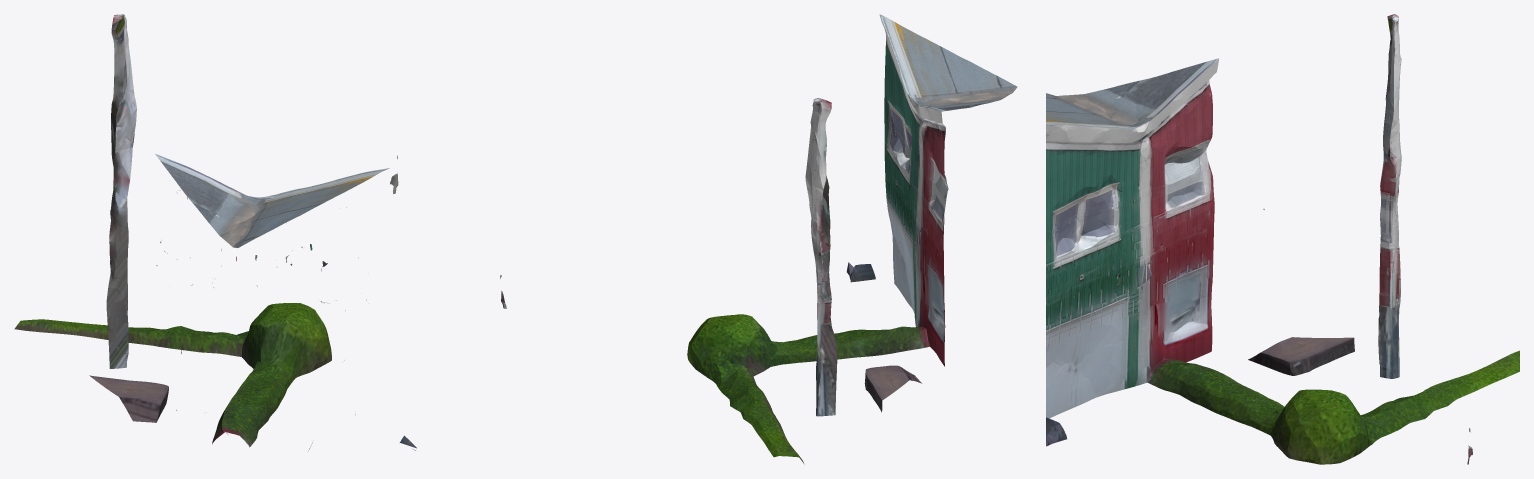
3 renders of one model, left to right at view 1: azimuth 30°, elevation 25°; view 2: azimuth 150°, elevation 25°; view 3: azimuth 270°, elevation 25°, orthographic. The views are drawn at different scales.
Bounding box in the file's own units: 7.68 × 7.01 × 8.36.
Materials: 2 (2 with a texture image).
